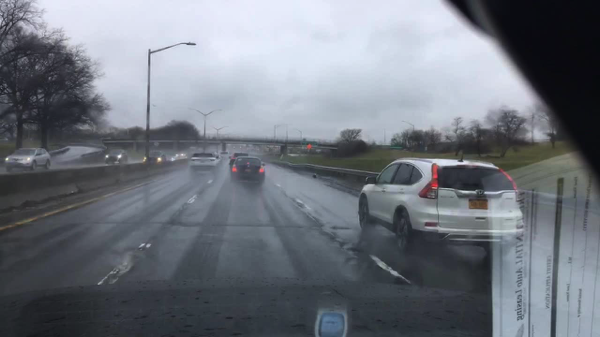car: (356, 152, 524, 254), (4, 147, 52, 172), (228, 157, 266, 181), (189, 152, 220, 173), (104, 149, 128, 163), (229, 152, 248, 169), (144, 151, 166, 163), (175, 151, 184, 159)
traffic sign: (305, 144, 313, 151)
truck: (220, 150, 228, 161)
